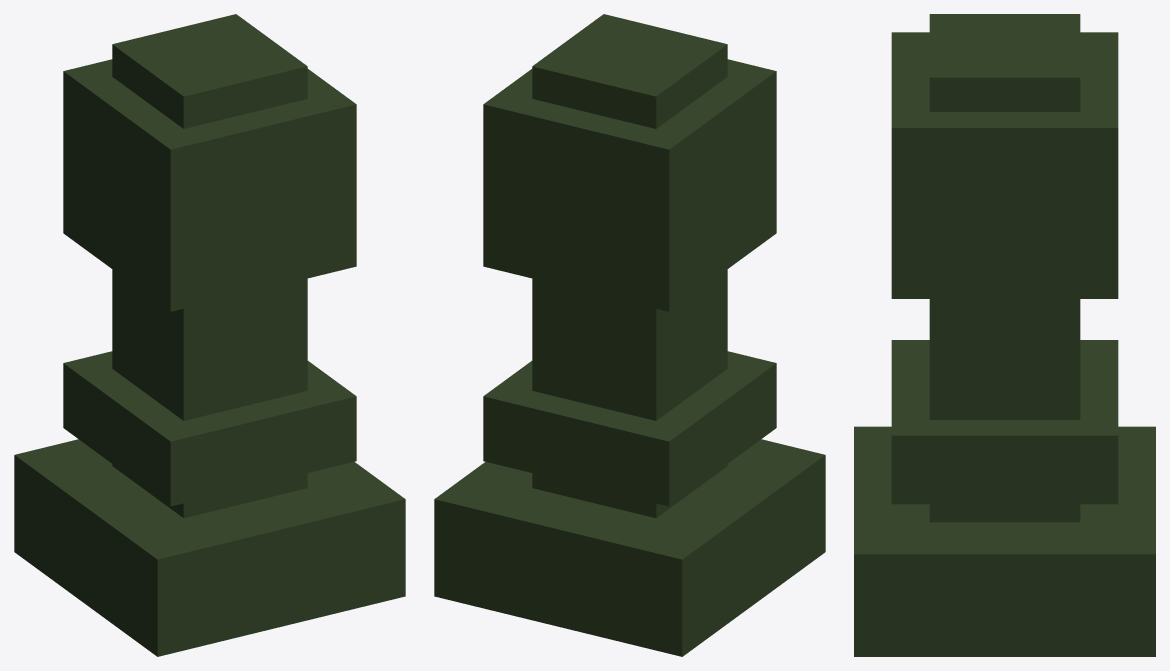
The model's file is token-v2-green.gltf.
3 views of the same model, side by side, from view 1: azimuth 30°, elevation 25°; view 2: azimuth 150°, elevation 25°; view 3: azimuth 270°, elevation 25° (orthographic). The views are drawn at different scales.
Parts seen in each view (by area): view 1: Untitled; view 2: Untitled; view 3: Untitled.
Boxes of the visible parts, box(x1,y1,x2,y2) form: Untitled: box(14, 14, 405, 656); Untitled: box(434, 14, 825, 656); Untitled: box(854, 14, 1155, 656).
Size of the model in its own units: 0.8 by 1.6 by 0.8.
Materials: 1 (1 with a texture image).
